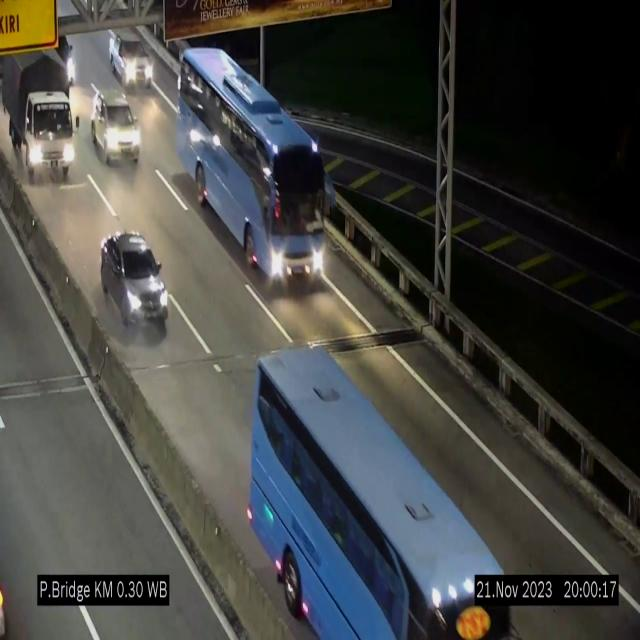Bus: (249, 344, 506, 640), (176, 44, 336, 282)
Car: (99, 231, 169, 328), (92, 88, 140, 165), (106, 28, 156, 94)
Truck: (0, 45, 80, 184)
